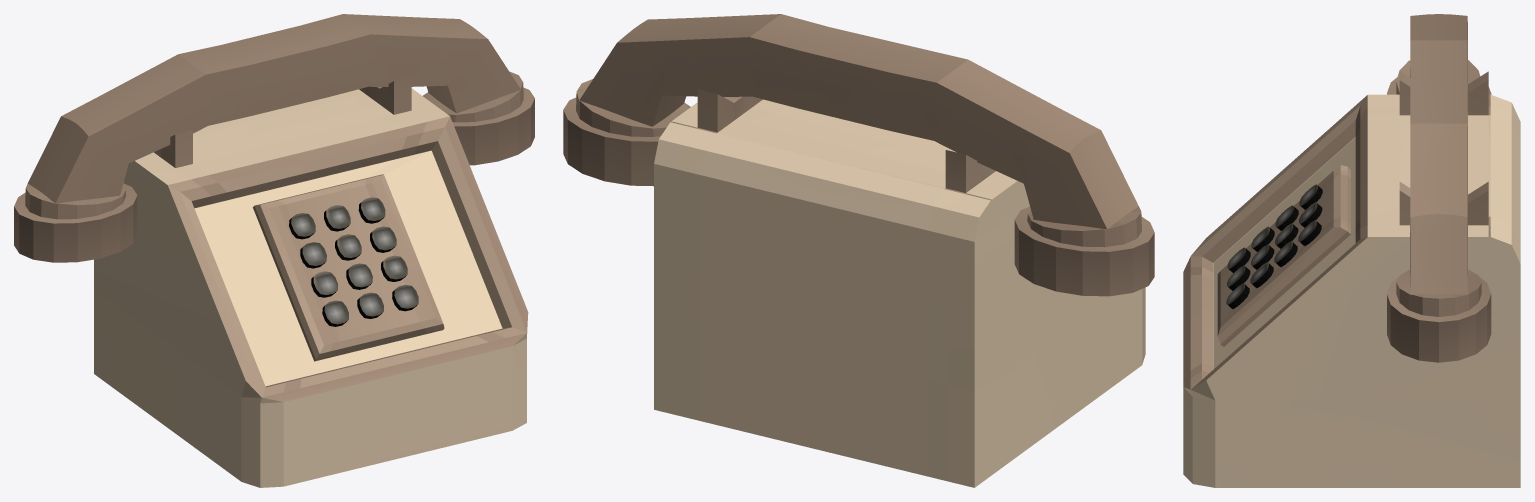
File: Phone.fbx
3 views of the same model, side by side, from view 1: azimuth 30°, elevation 25°; view 2: azimuth 150°, elevation 25°; view 3: azimuth 270°, elevation 25° (orthographic). The views are drawn at different scales.
Parts seen in each view (by area): view 1: PhoneStand, Phone; view 2: PhoneStand, Phone; view 3: PhoneStand, Phone.
Part boxes in pixels (x1=…): PhoneStand: x1=94, y1=77, x2=528, y2=487; Phone: x1=14, y1=14, x2=534, y2=262; PhoneStand: x1=654, y1=89, x2=1145, y2=487; Phone: x1=563, y1=14, x2=1154, y2=296; PhoneStand: x1=1183, y1=71, x2=1520, y2=487; Phone: x1=1387, y1=14, x2=1491, y2=362.
Bounding box in the file's own units: 214 × 130 × 118.
